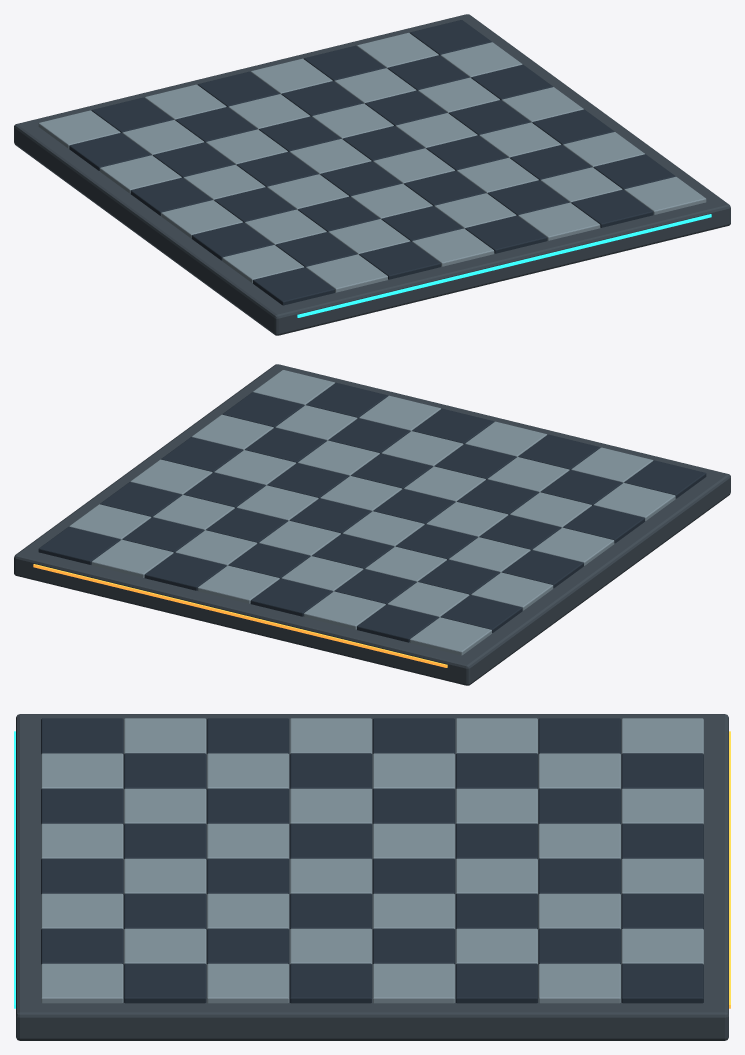
File: board.glb
3 views of the same model, one above another, from view 1: azimuth 30°, elevation 25°; view 2: azimuth 150°, elevation 25°; view 3: azimuth 270°, elevation 25° (orthographic). The views are drawn at different scales.
Visible parts, largest first — view 1: SciFi_Board; view 2: SciFi_Board; view 3: SciFi_Board.
Part boxes in pixels (x1,y1,x2,y2): SciFi_Board: (14,14,730,335); SciFi_Board: (14,364,730,685); SciFi_Board: (14,714,730,1040).
Bounding box in the file's own units: 8.6 × 0.45 × 8.64.
